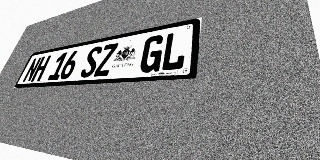1: (47, 52, 69, 80)
6: (58, 50, 81, 80)
G: (138, 34, 166, 73)
H: (30, 55, 51, 82)
L: (159, 30, 188, 71)
N: (22, 57, 42, 82)
S: (79, 45, 103, 78)
Z: (93, 43, 118, 77)
